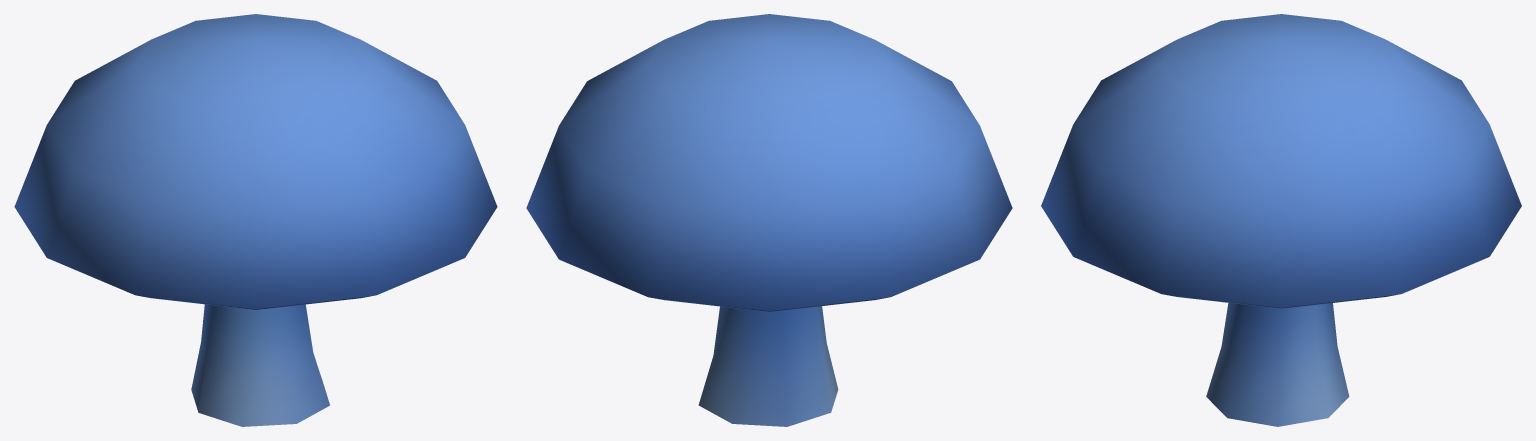
The picture shows the model from 3 angles, left to right: view 1: azimuth 30°, elevation 25°; view 2: azimuth 150°, elevation 25°; view 3: azimuth 270°, elevation 25°; orthographic projection.
Visible parts, largest first — view 1: Cylinder006; view 2: Cylinder006; view 3: Cylinder006.
Part boxes in pixels (bbox=[...]): Cylinder006: bbox=[14, 14, 497, 426]; Cylinder006: bbox=[526, 14, 1012, 426]; Cylinder006: bbox=[1041, 14, 1521, 426].
Size of the model in its own units: 21.76 by 17.59 by 21.76.
1 material, 1 textured.
